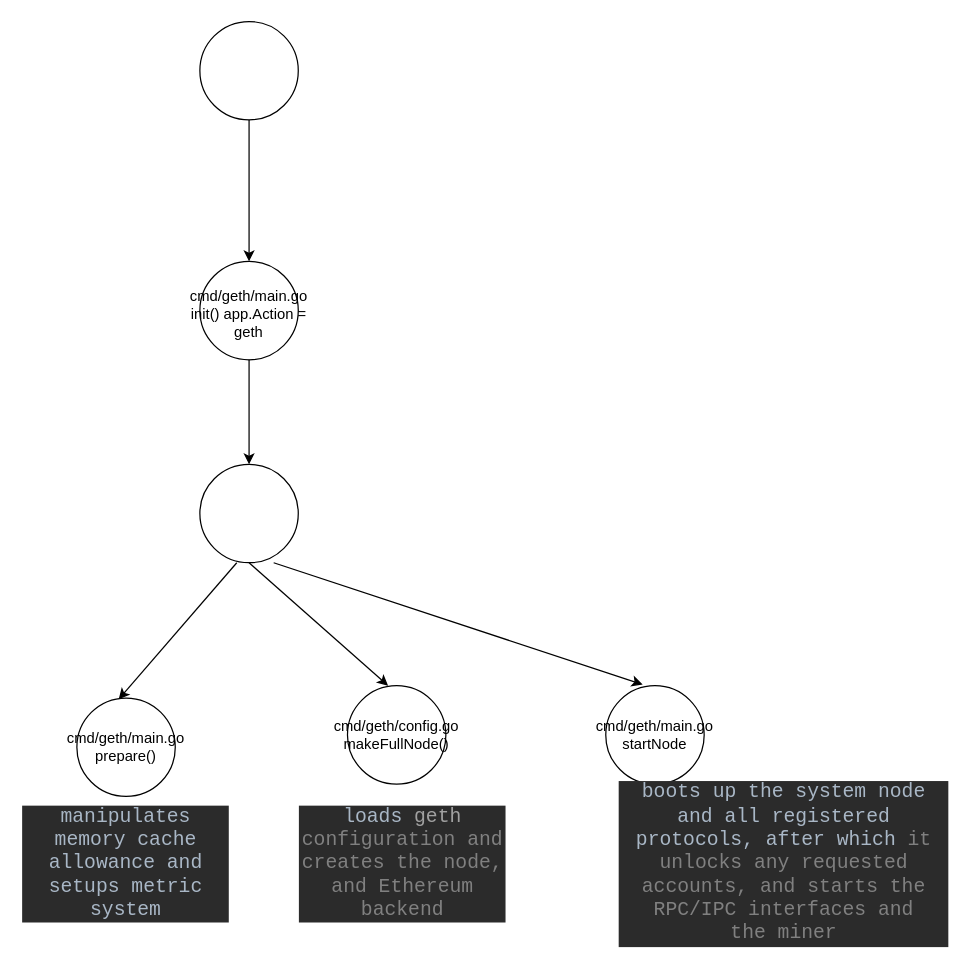
This 970x968 diagram has some shape labels left out. Each missing label, with the box of its shape:
cmd/geth/main.go geth(): (199, 463, 298, 563)
cmd/geth/main.go main() app.Run: (199, 20, 298, 120)
